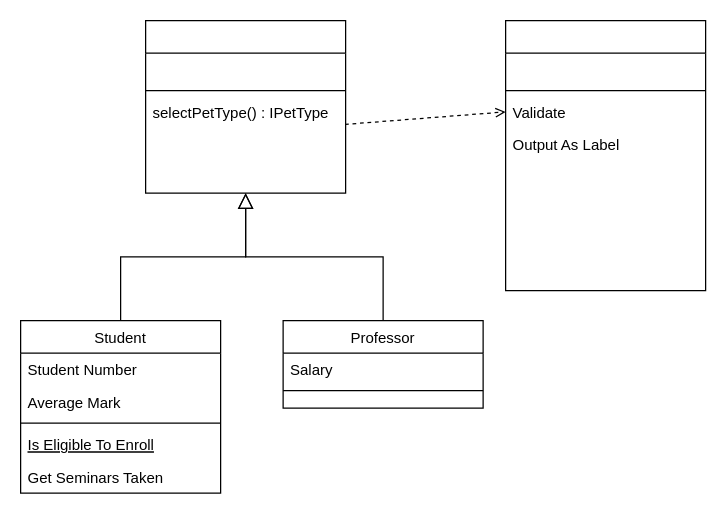
Some shapes in this 726 by 514 pixel diagram are drawn without their labels. Here are the shapes that lost their labels. From the top down, the box of each, then its label:
(144, 19, 346, 193): Service
(504, 19, 706, 291): IPetType
